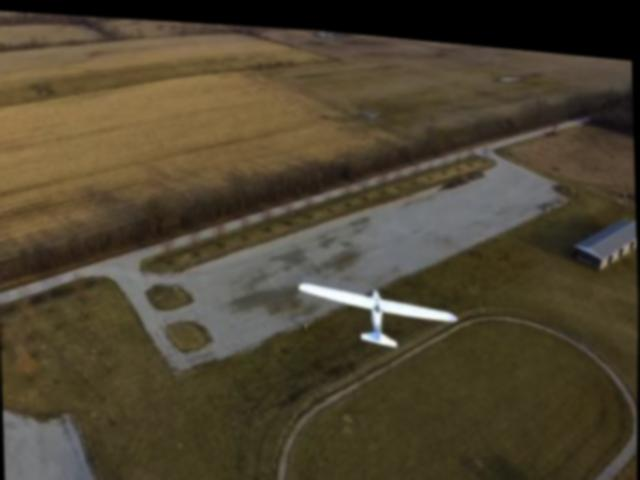uav: (293, 254, 469, 362)
